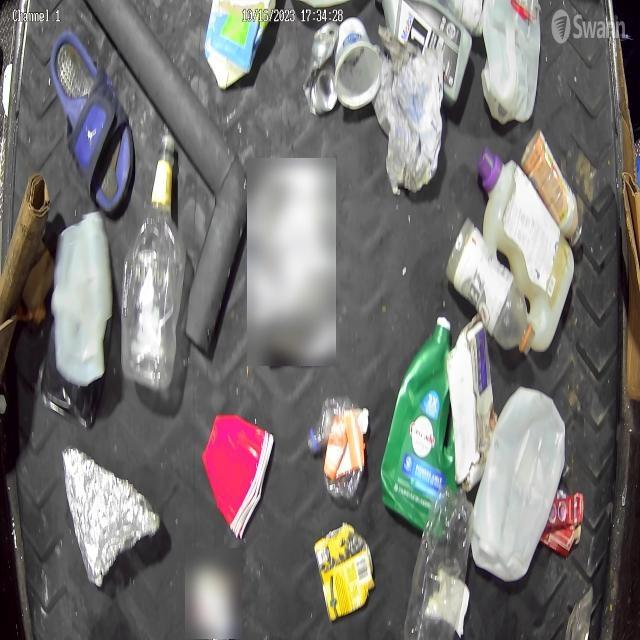milk_jug: (469, 386, 567, 598), (44, 208, 116, 396), (482, 2, 546, 128)
non_white_jug: (382, 316, 454, 534)
